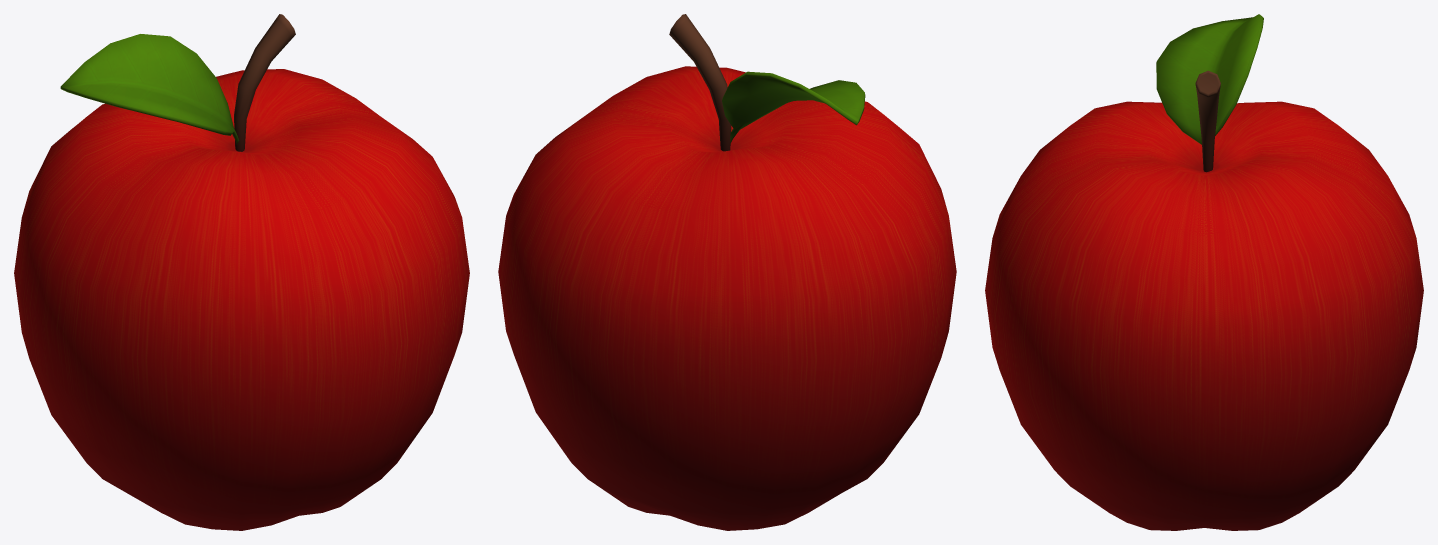
The model's file is apple.glb.
3 renders of one model, left to right at view 1: azimuth 30°, elevation 25°; view 2: azimuth 150°, elevation 25°; view 3: azimuth 270°, elevation 25°, orthographic. The views are drawn at different scales.
Parts seen in each view (by area): view 1: Apple; view 2: Apple; view 3: Apple.
Part boxes in pixels (x1,y1,x2,y2): Apple: (14, 14, 469, 530); Apple: (498, 14, 956, 530); Apple: (985, 14, 1423, 530).
Bounding box in the file's own units: 2.03 × 2.31 × 2.03.
Materials: 1 (1 with a texture image).
